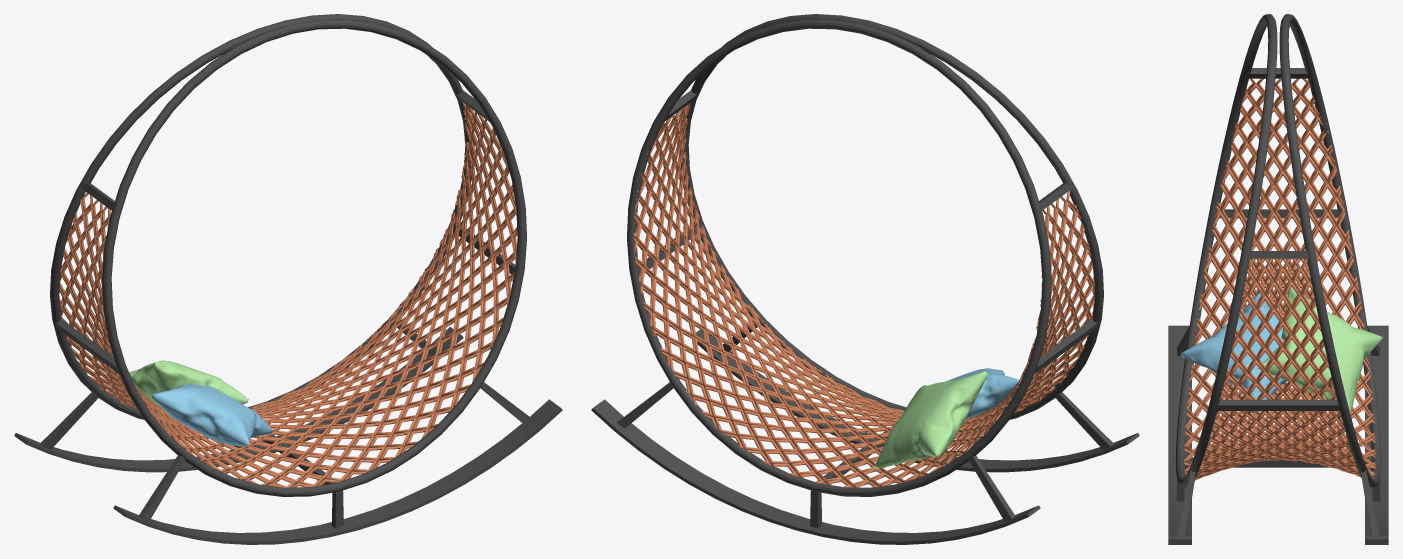
3 renders of one model, left to right at view 1: azimuth 30°, elevation 25°; view 2: azimuth 150°, elevation 25°; view 3: azimuth 270°, elevation 25°, orthographic.
Parts seen in each view (by area): view 1: Cube.001, Cube, Cube.002; view 2: Cube.001, Cube, Cube.002; view 3: Cube.001, Cube, Cube.002.
Part boxes in pixels (left/top/right/bottom): Cube.001: left=59, top=101, right=517, bottom=487; Cube: left=14, top=14, right=562, bottom=544; Cube.002: left=113, top=360, right=272, bottom=446; Cube.001: left=633, top=103, right=1094, bottom=487; Cube: left=591, top=14, right=1139, bottom=544; Cube.002: left=874, top=368, right=1019, bottom=468; Cube.001: left=1184, top=78, right=1376, bottom=480; Cube: left=1168, top=14, right=1388, bottom=544; Cube.002: left=1181, top=287, right=1383, bottom=413.
Bounding box in the file's own units: 315 × 323 × 138.
